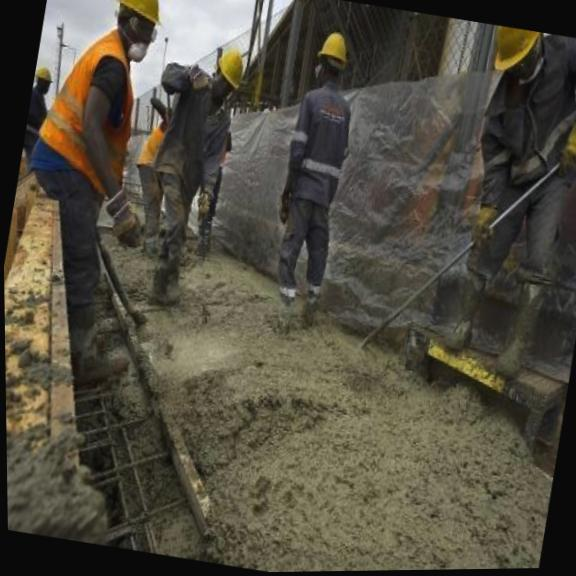no_safety_vest: (448, 21, 576, 264), (139, 53, 246, 207), (275, 74, 363, 208), (23, 83, 50, 142)
safety_vest: (27, 24, 153, 208)
